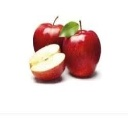apple: (28, 43, 67, 82)
